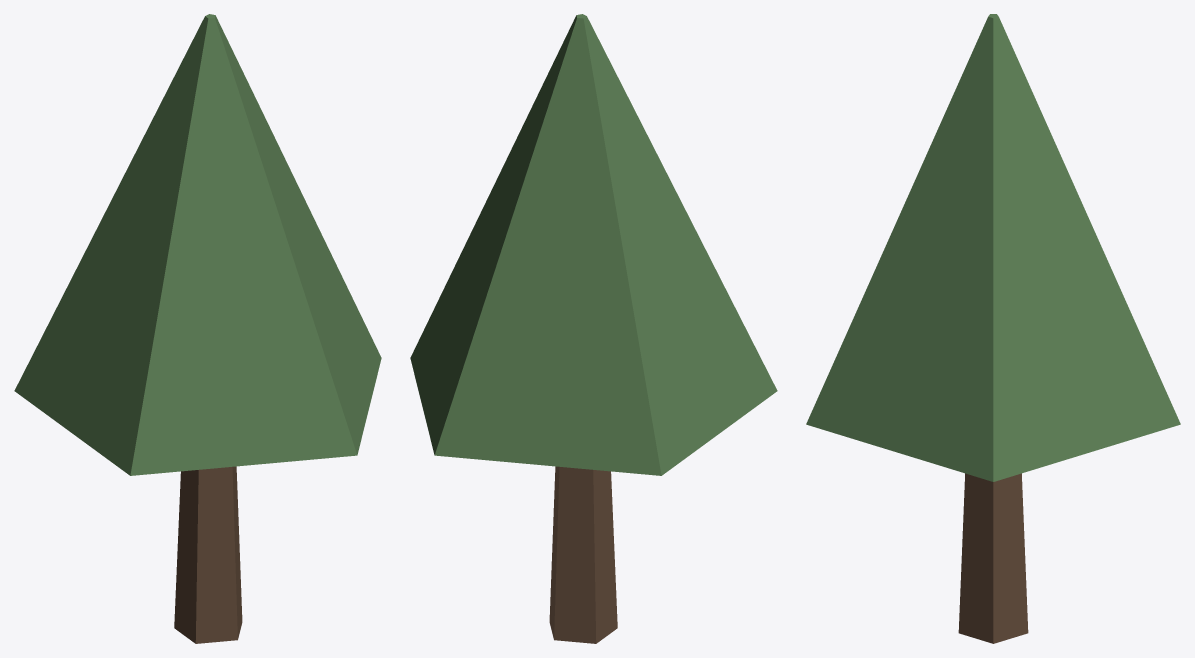
The model's file is Kit_IronLowlands_Tree_LOD1.glb.
The picture shows the model from 3 angles, left to right: view 1: azimuth 30°, elevation 25°; view 2: azimuth 150°, elevation 25°; view 3: azimuth 270°, elevation 25°; orthographic projection.
Parts seen in each view (by area): view 1: Kit_IronLowlands_Tree_LOD1_IronLowlands_leaf_-1_0, Kit_IronLowlands_Tree_LOD1_Warm timber_-1_0; view 2: Kit_IronLowlands_Tree_LOD1_IronLowlands_leaf_-1_0, Kit_IronLowlands_Tree_LOD1_Warm timber_-1_0; view 3: Kit_IronLowlands_Tree_LOD1_IronLowlands_leaf_-1_0, Kit_IronLowlands_Tree_LOD1_Warm timber_-1_0.
Boxes of the visible parts, bbox=[...] form: Kit_IronLowlands_Tree_LOD1_IronLowlands_leaf_-1_0: bbox=[14, 14, 381, 475]; Kit_IronLowlands_Tree_LOD1_Warm timber_-1_0: bbox=[174, 466, 242, 643]; Kit_IronLowlands_Tree_LOD1_IronLowlands_leaf_-1_0: bbox=[410, 14, 777, 475]; Kit_IronLowlands_Tree_LOD1_Warm timber_-1_0: bbox=[549, 466, 617, 643]; Kit_IronLowlands_Tree_LOD1_IronLowlands_leaf_-1_0: bbox=[806, 14, 1180, 481]; Kit_IronLowlands_Tree_LOD1_Warm timber_-1_0: bbox=[958, 473, 1028, 643].
Bounding box in the file's own units: 12.66 × 24 × 13.31.
